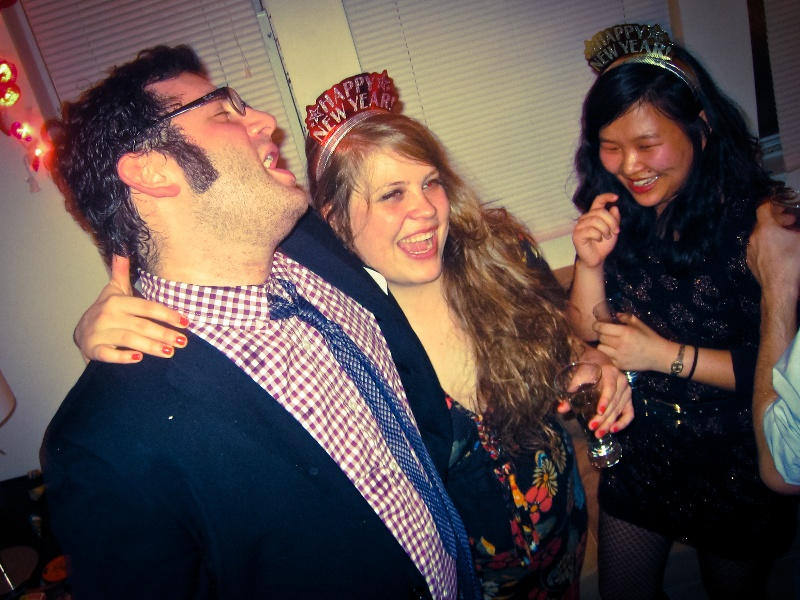face: (126, 79, 311, 263), (325, 132, 465, 286), (587, 95, 699, 212)
